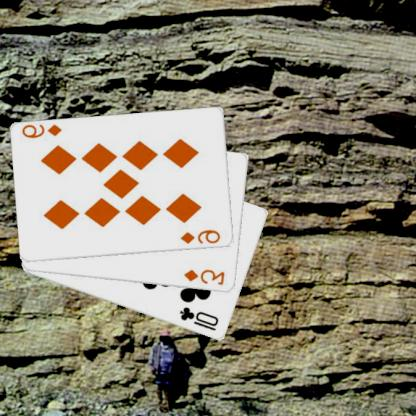10C: (178, 304, 223, 333)
3D: (183, 267, 228, 287)
9D: (180, 227, 224, 246), (21, 122, 65, 140)
